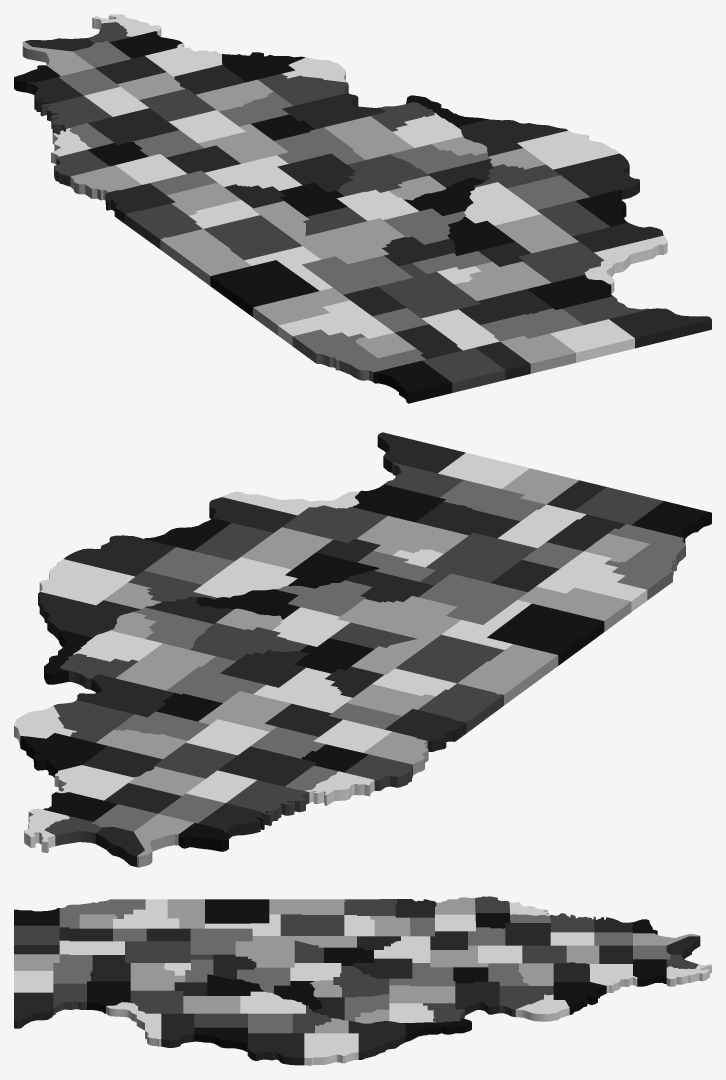
File: Illinois_Counties_3D.fbx
The picture shows the model from 3 angles, top to bottom: view 1: azimuth 30°, elevation 25°; view 2: azimuth 150°, elevation 25°; view 3: azimuth 270°, elevation 25°; orthographic projection. The views are drawn at different scales.
Parts seen in each view (by area): view 1: IL_Cook_County_3D, IL_Iroquois_County_3D, IL_McLean_County_3D, IL_LaSalle_County_3D, IL_Vermilion_County_3D, IL_Livingston_County_3D, IL_Champaign_County_3D, IL_Will_County_3D, IL_Jo_Daviess_County_3D, IL_Hancock_County_3D, IL_Adams_County_3D, IL_Bureau_County_3D (+87 smaller); view 2: IL_Iroquois_County_3D, IL_McLean_County_3D, IL_LaSalle_County_3D, IL_Cook_County_3D, IL_Vermilion_County_3D, IL_Livingston_County_3D, IL_Champaign_County_3D, IL_Will_County_3D, IL_Pike_County_3D, IL_Adams_County_3D, IL_Bureau_County_3D, IL_Sangamon_County_3D (+89 smaller); view 3: IL_Adams_County_3D, IL_Hancock_County_3D, IL_McLean_County_3D, IL_Iroquois_County_3D, IL_Pike_County_3D, IL_LaSalle_County_3D, IL_Livingston_County_3D, IL_Cook_County_3D, IL_Champaign_County_3D, IL_Madison_County_3D, IL_Will_County_3D, IL_Bureau_County_3D (+89 smaller).
Boxes of the visible parts, x1,y1,x2,y2 form: IL_Cook_County_3D: [292, 329, 425, 382]; IL_Iroquois_County_3D: [210, 260, 319, 316]; IL_McLean_County_3D: [293, 218, 405, 264]; IL_LaSalle_County_3D: [378, 263, 480, 318]; IL_Vermilion_County_3D: [160, 229, 251, 285]; IL_Livingston_County_3D: [302, 255, 413, 294]; IL_Champaign_County_3D: [204, 215, 301, 260]; IL_Will_County_3D: [278, 300, 393, 345]; IL_Jo_Daviess_County_3D: [609, 308, 711, 348]; IL_Hancock_County_3D: [553, 153, 639, 199]; IL_Adams_County_3D: [517, 130, 619, 169]; IL_Bureau_County_3D: [454, 261, 551, 300]; IL_Iroquois_County_3D: [487, 603, 604, 665]; IL_McLean_County_3D: [337, 596, 460, 641]; IL_LaSalle_County_3D: [420, 532, 537, 585]; IL_Cook_County_3D: [604, 524, 685, 600]; IL_Vermilion_County_3D: [457, 644, 558, 705]; IL_Livingston_County_3D: [419, 573, 527, 624]; IL_Champaign_County_3D: [395, 634, 504, 683]; IL_Will_County_3D: [536, 551, 647, 611]; IL_Pike_County_3D: [38, 592, 141, 639]; IL_Adams_County_3D: [39, 559, 134, 605]; IL_Bureau_County_3D: [357, 516, 468, 555]; IL_Sangamon_County_3D: [190, 623, 307, 661]; IL_Adams_County_3D: [304, 1033, 358, 1065]; IL_Hancock_County_3D: [247, 1033, 304, 1065]; IL_McLean_County_3D: [235, 936, 294, 967]; IL_Iroquois_County_3D: [205, 899, 269, 923]; IL_Pike_County_3D: [348, 1020, 405, 1059]; IL_LaSalle_County_3D: [125, 941, 213, 962]; IL_Livingston_County_3D: [190, 928, 252, 954]; IL_Cook_County_3D: [59, 899, 145, 928]; IL_Champaign_County_3D: [280, 914, 344, 935]; IL_Madison_County_3D: [455, 981, 499, 1016]; IL_Will_County_3D: [113, 899, 179, 928]; IL_Bureau_County_3D: [130, 963, 185, 990].
Size of the model in its own units: 457 by 10 by 833.
